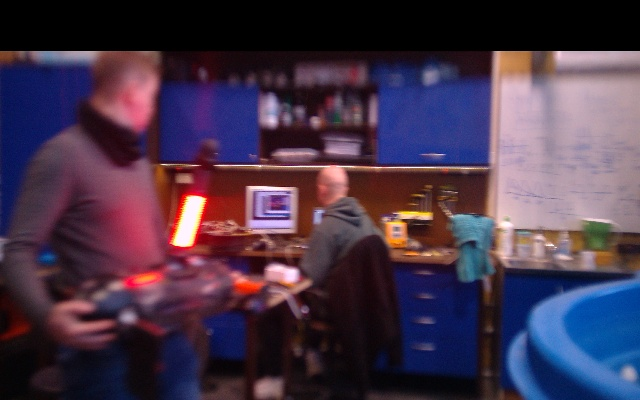red: (169, 192, 208, 249)
